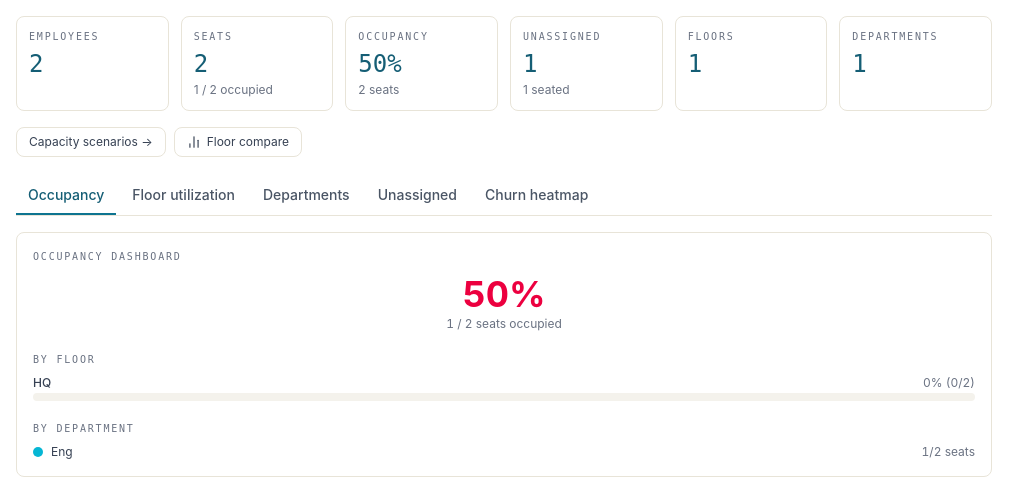
it: ReportsPage › switches to Floor utilization when the tab is clicked
This screenshot has width=1009, height=494.
Click the tab "Floor utilization".
click(184, 196)  # box [120,177,247,215]
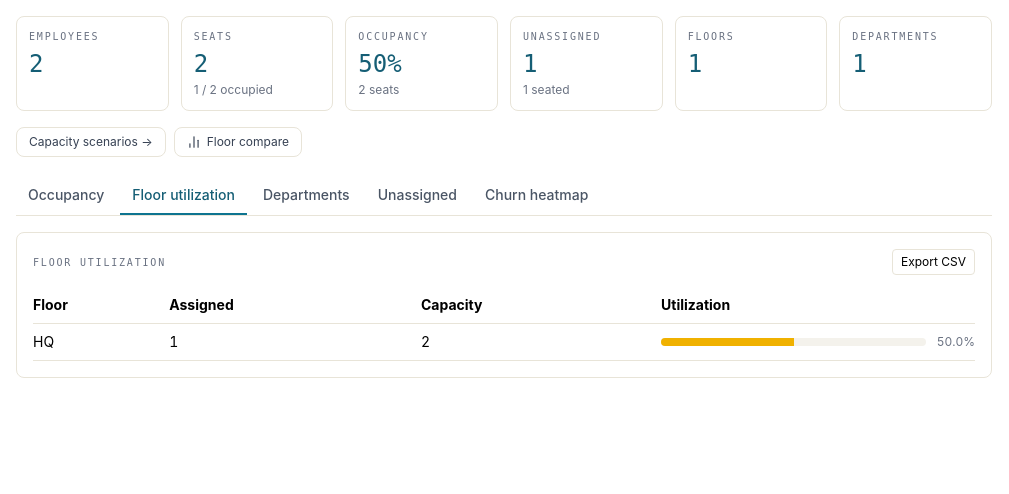
Expected: the text "HQ" is shown, [33,324,169,360]
Now the heading "Floor utilization" is shown, box [33,254,166,270]
